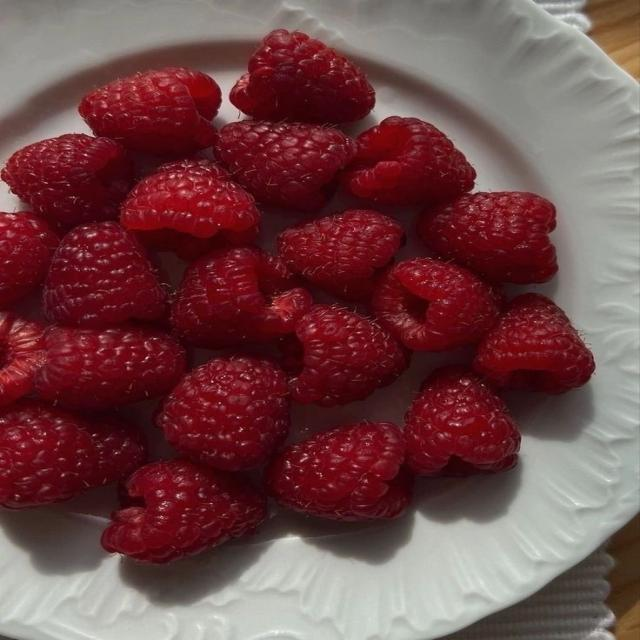raspberry: (102, 460, 266, 563), (0, 401, 146, 509), (157, 357, 289, 471), (171, 246, 312, 349), (266, 423, 413, 520), (230, 29, 374, 123), (281, 305, 408, 406), (44, 222, 166, 326), (36, 325, 186, 409), (419, 192, 557, 283), (405, 367, 519, 476), (216, 121, 355, 210), (0, 134, 133, 227), (79, 68, 220, 155), (474, 293, 594, 394), (373, 258, 500, 350), (344, 117, 475, 204), (277, 210, 403, 300), (120, 159, 259, 238), (0, 212, 58, 307), (137, 226, 259, 261), (0, 312, 44, 405)
